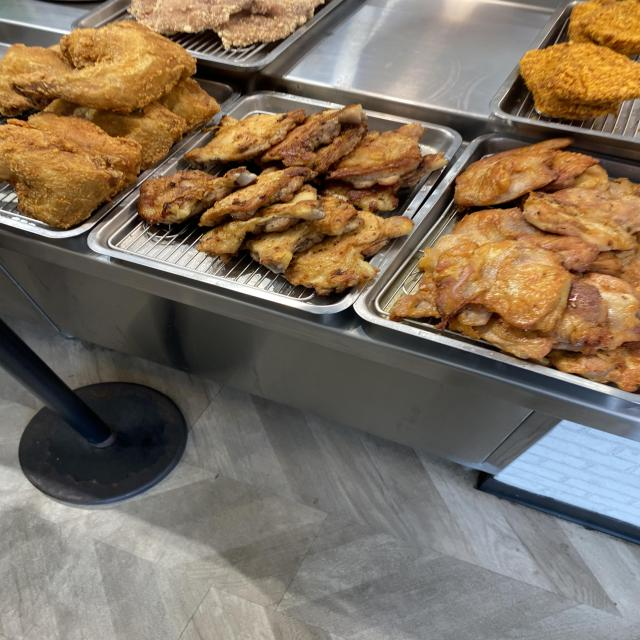Chicken Leg Steak: (488, 175, 624, 352), (245, 117, 368, 248)
